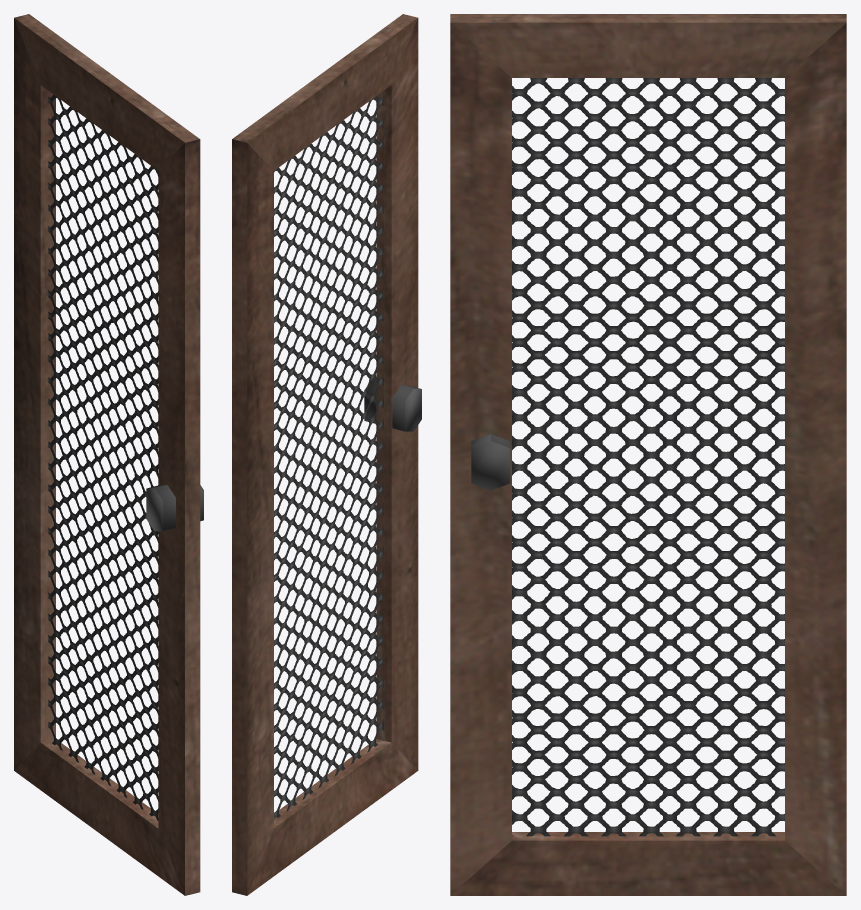
File: FenceDoor.fbx
3 renders of one model, left to right at view 1: azimuth 30°, elevation 25°; view 2: azimuth 150°, elevation 25°; view 3: azimuth 270°, elevation 25°, orthographic. The views are drawn at different scales.
Parts seen in each view (by area): view 1: FenceDoor; view 2: FenceDoor; view 3: FenceDoor.
Part boxes in pixels (x1=…): FenceDoor: x1=14, y1=14, x2=203, y2=895; FenceDoor: x1=232, y1=14, x2=421, y2=895; FenceDoor: x1=450, y1=14, x2=846, y2=895.
Bounding box in the file's own units: 13.55 × 238 × 97.95.
